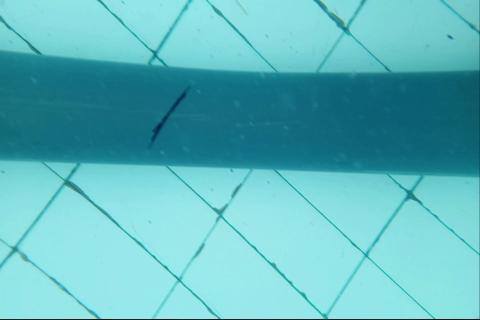keretakan: (148, 86, 190, 152)
